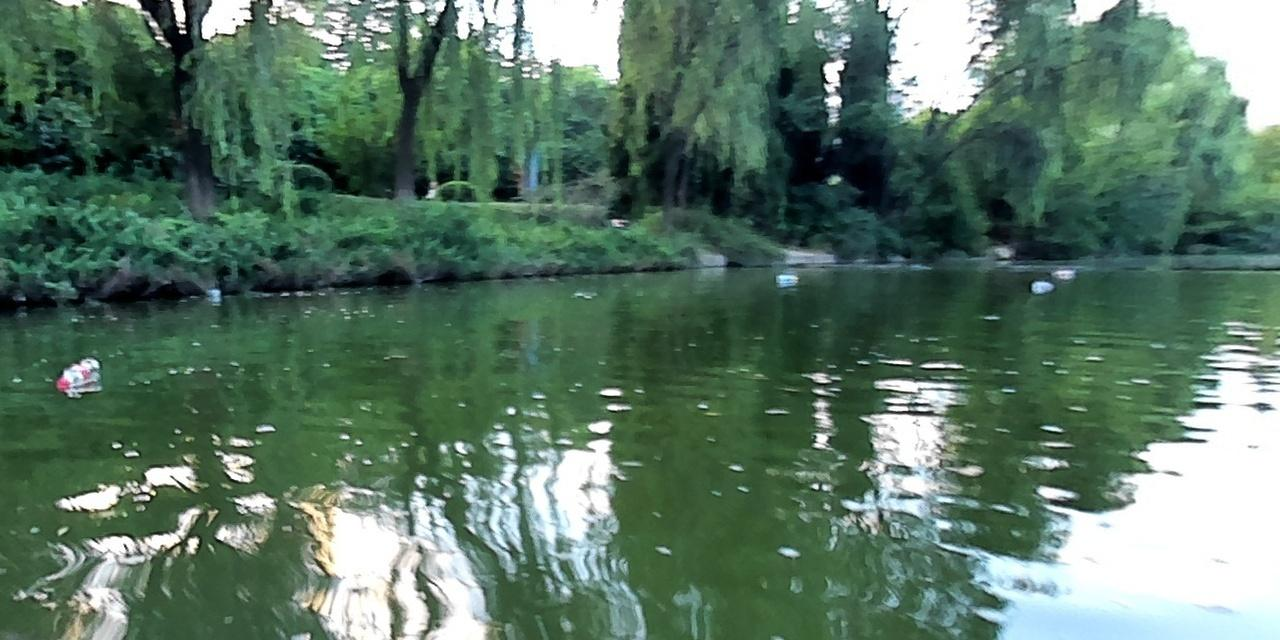bottle: (53, 353, 102, 391), (774, 272, 798, 287), (1051, 267, 1076, 281), (1030, 280, 1053, 294)
